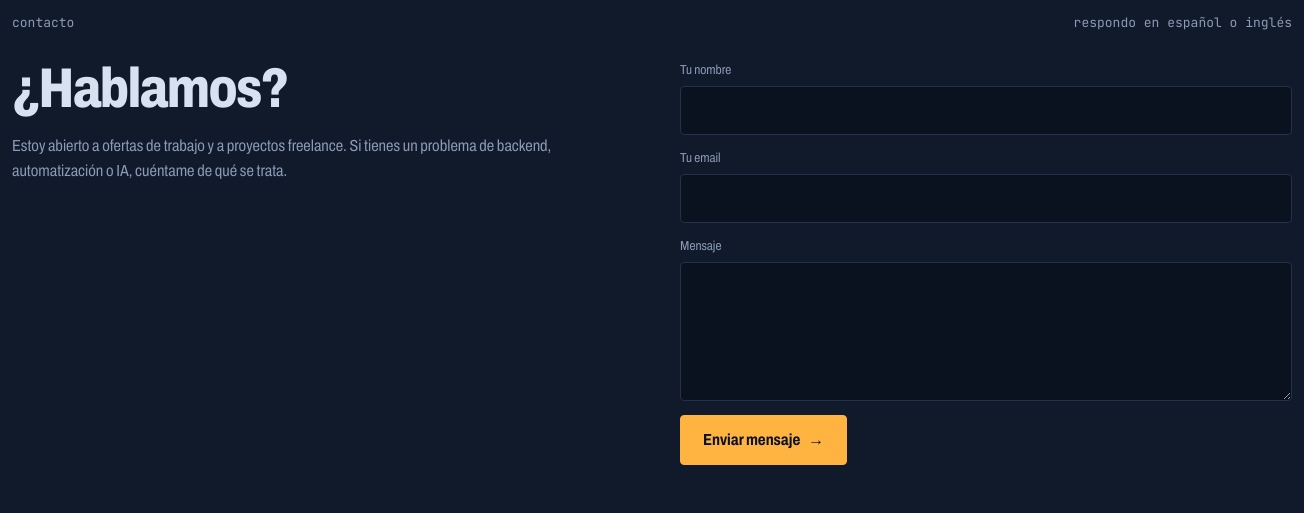
Contact › posts the same payload and shows success, clearing the form
Step 1. Type "Ana" into the field labelled "Tu nombre" → (986, 110), box [680,86,1292,134]
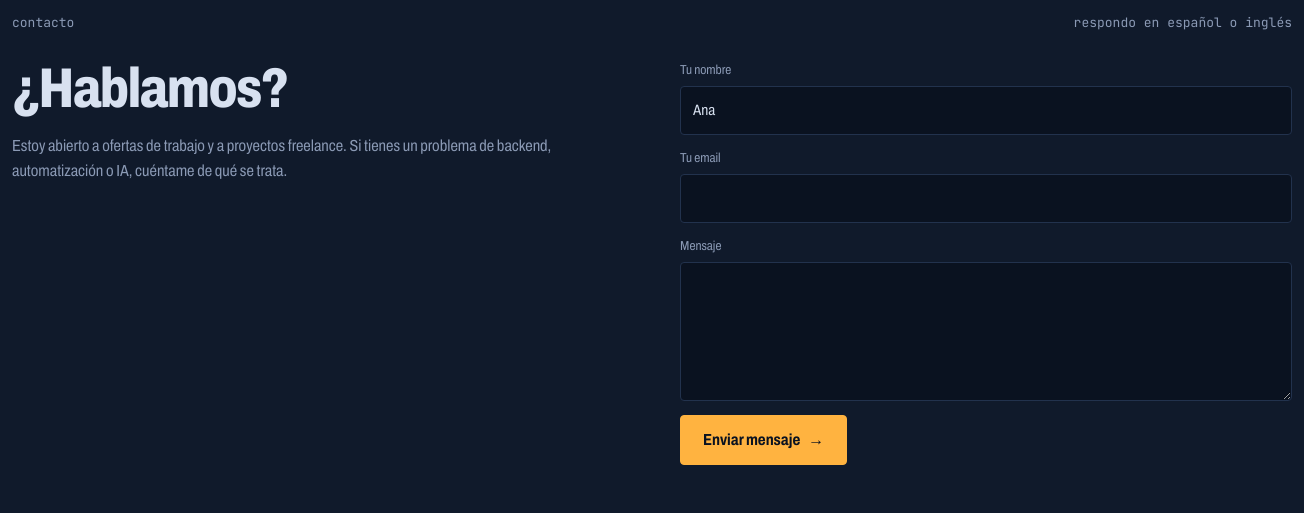
Step 2. Type "ana@example.com" into the field labelled "Tu email" → (986, 198), box [680,174,1292,222]
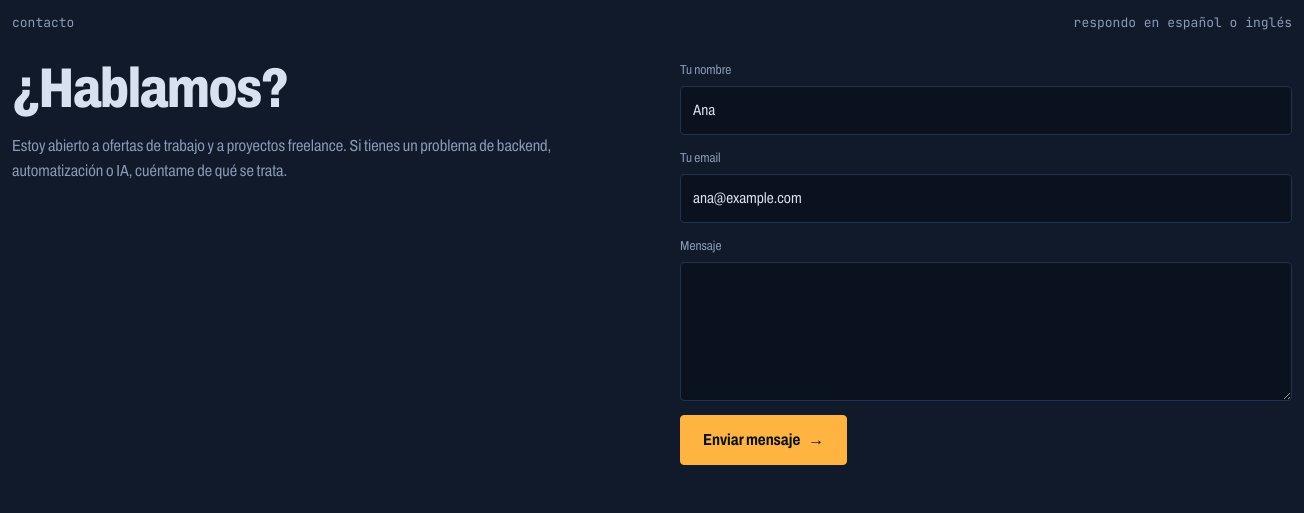
Step 3. Type "Hola" into the text box labelled "Mensaje" → (986, 331), box [680,262,1292,400]
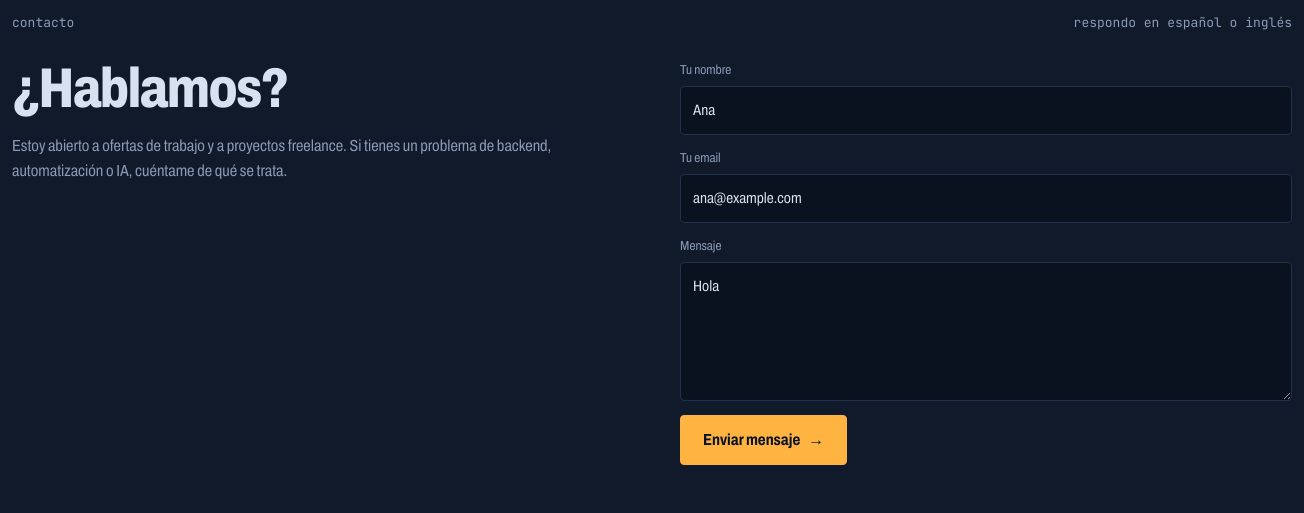
Step 4. Click the button "Enviar mensaje →" → (764, 440), box [680,414,847,464]
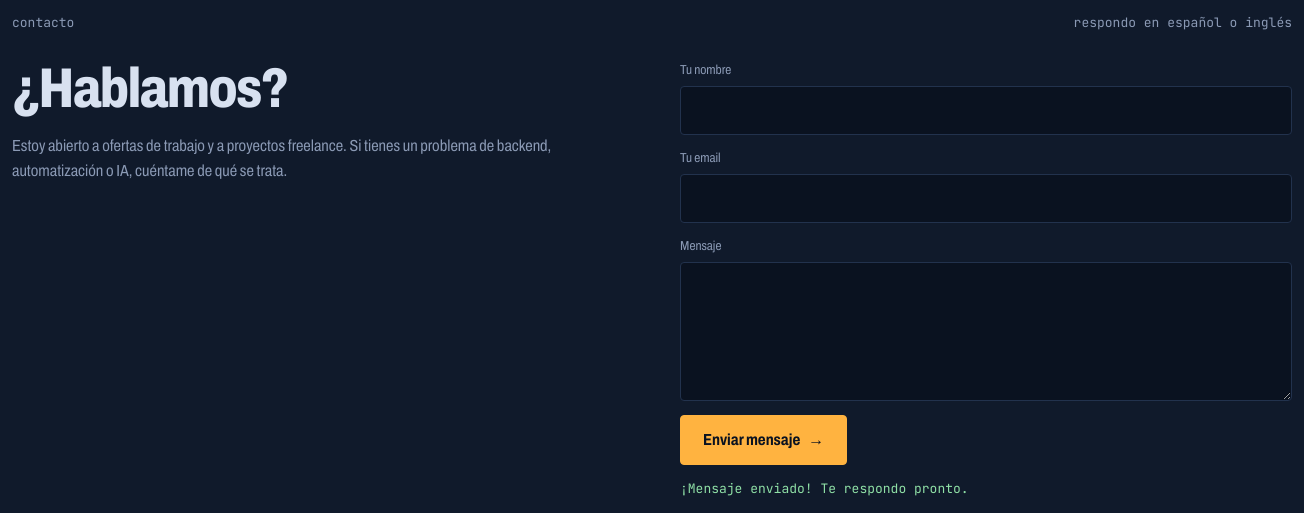
Result: the message reads "¡Mensaje enviado! Te respondo pronto." at [680,480,969,496]
Result: the field labelled "Tu nombre" is empty at [680,86,1292,134]
